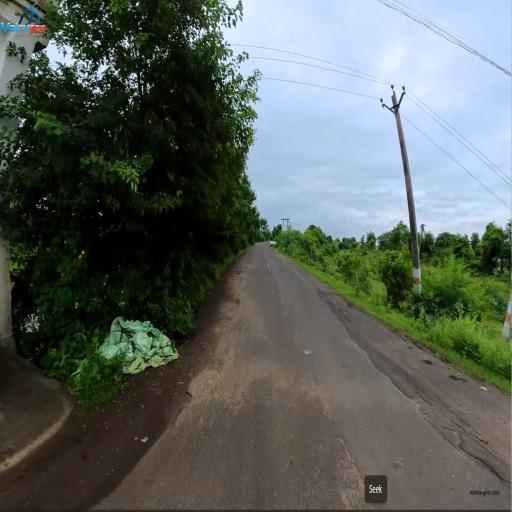ravelling: (410, 383, 488, 475)
